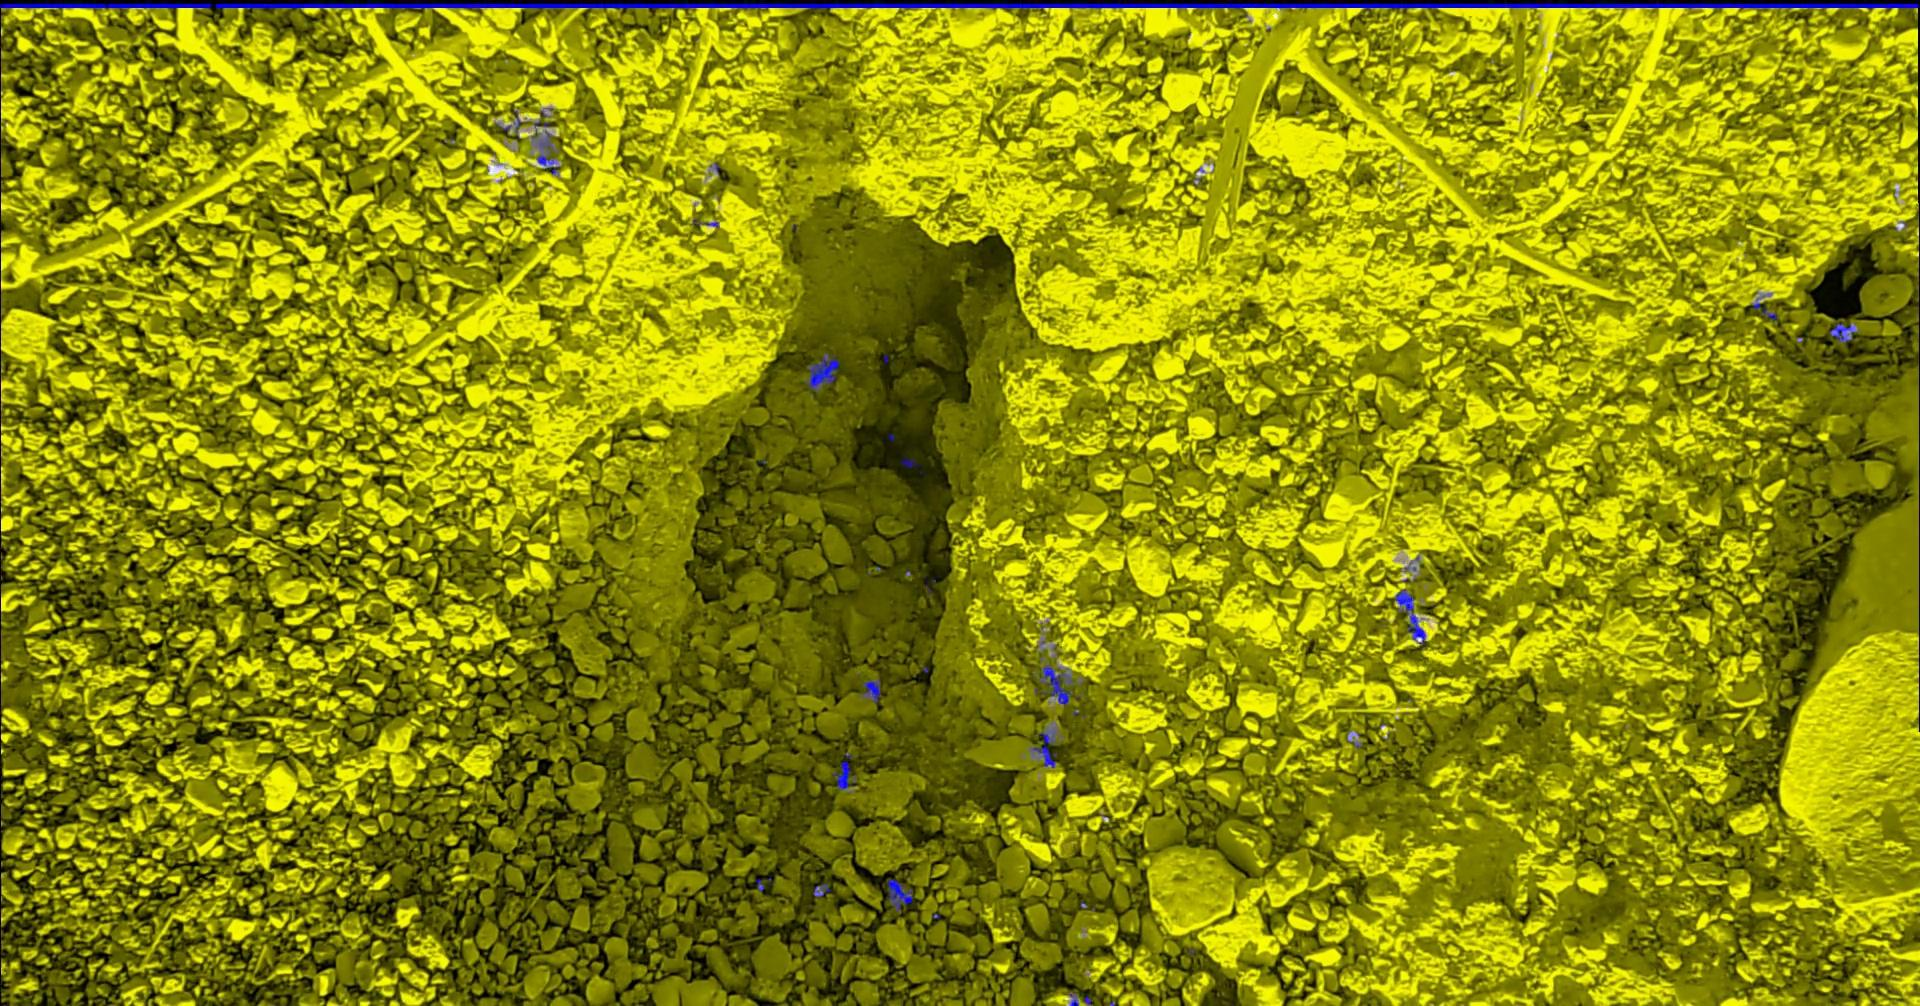ant: (1396, 589, 1427, 648), (1036, 661, 1076, 705), (533, 119, 561, 173), (808, 353, 841, 391), (1032, 727, 1058, 767), (833, 753, 858, 790), (888, 878, 914, 912), (1752, 302, 1779, 321), (1831, 323, 1858, 342), (862, 678, 883, 701), (814, 883, 830, 897), (902, 456, 921, 467)
